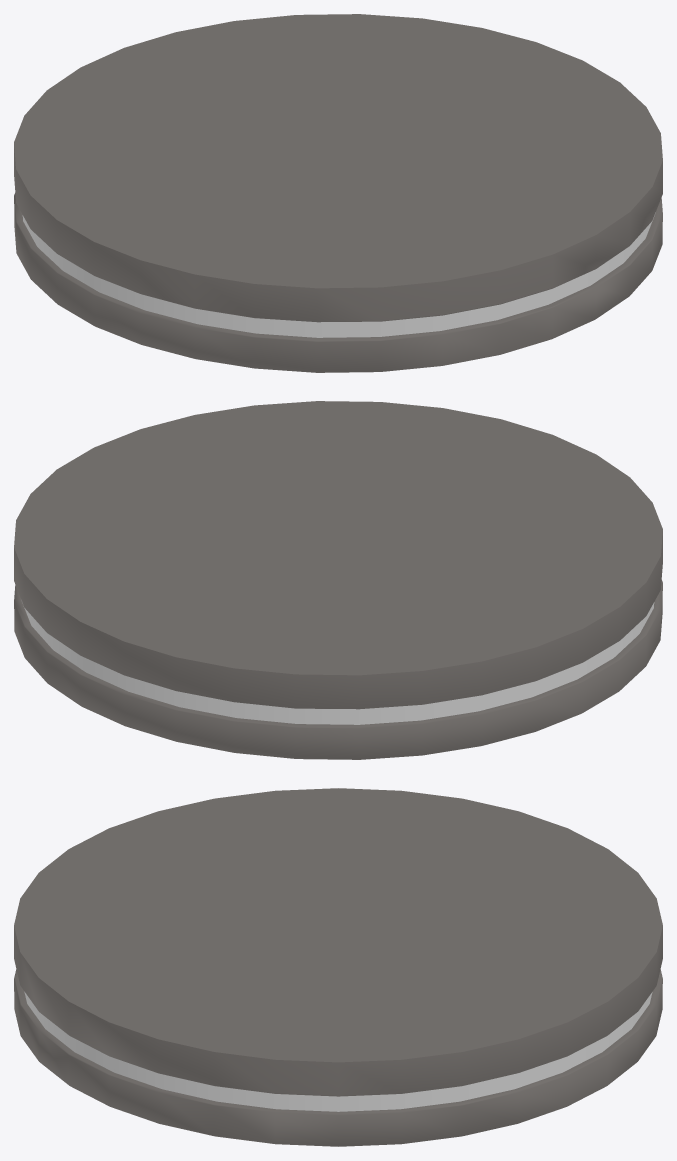
The model's file is ceiling_light_new.glb.
3 renders of one model, top to bottom at view 1: azimuth 30°, elevation 25°; view 2: azimuth 150°, elevation 25°; view 3: azimuth 270°, elevation 25°, orthographic.
Parts seen in each view (by area): view 1: defaultMaterial; view 2: defaultMaterial; view 3: defaultMaterial.
Boxes of the visible parts, x1,y1,x2,y2 form: defaultMaterial: [14, 14, 662, 372]; defaultMaterial: [14, 401, 662, 759]; defaultMaterial: [14, 788, 662, 1146].
Bounding box in the file's own units: 2 × 0.2903 × 2.
1 material, 1 textured.
